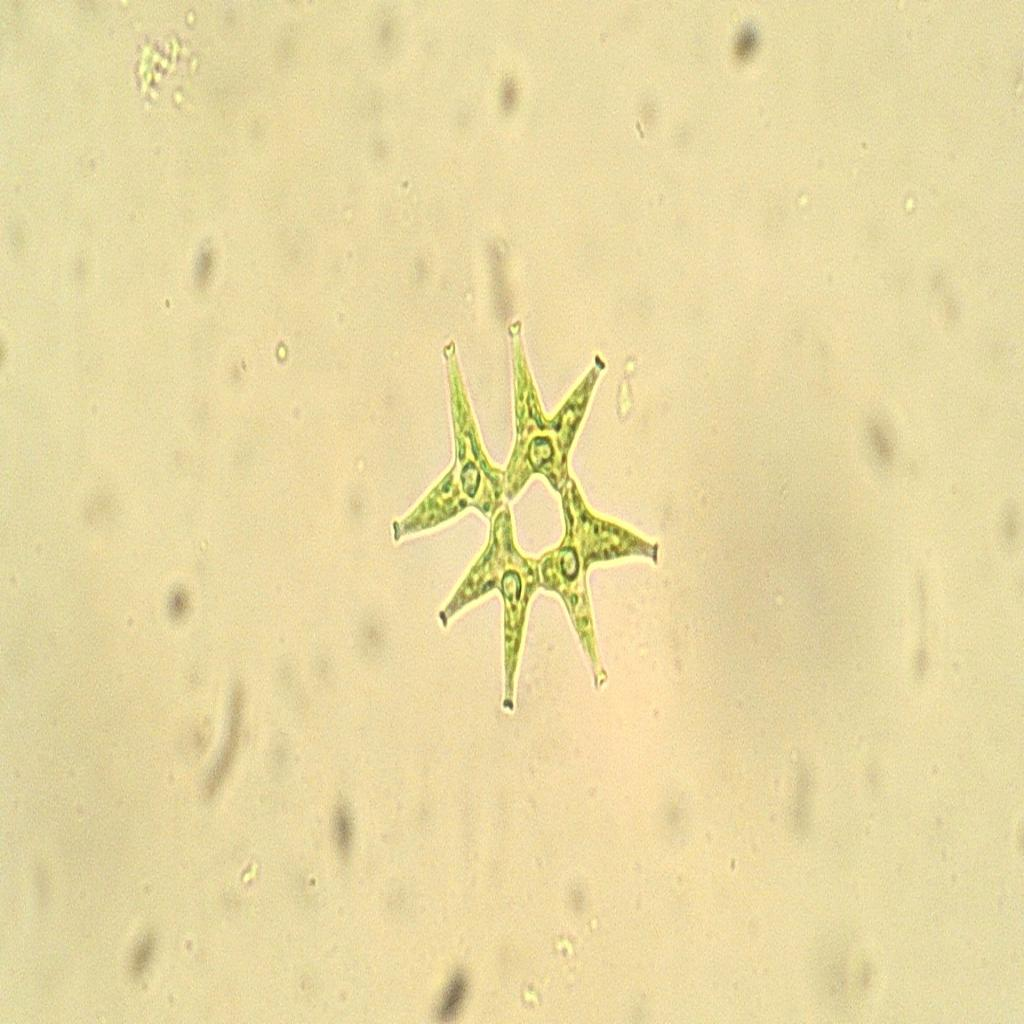Pediastrum_75FI: (384, 284, 668, 733)
